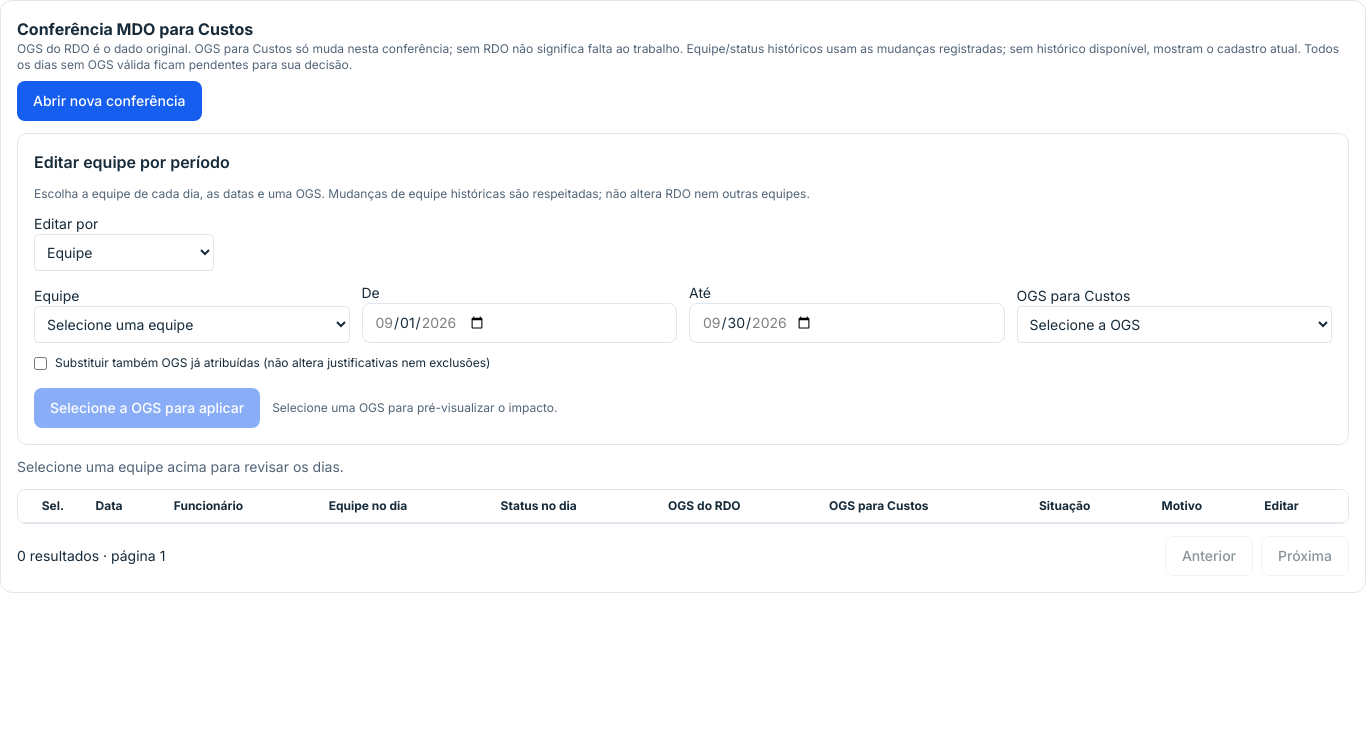
Test: conferência MDO por equipe › não inventa pendências quando a paginação de decisões corta o mesmo dia em 500 linhas
Select "CBUQ03 - GIVANILDO" in the dropdown named "Equipe para conferência MDO" at point(192, 324), box [34,306,350,343]
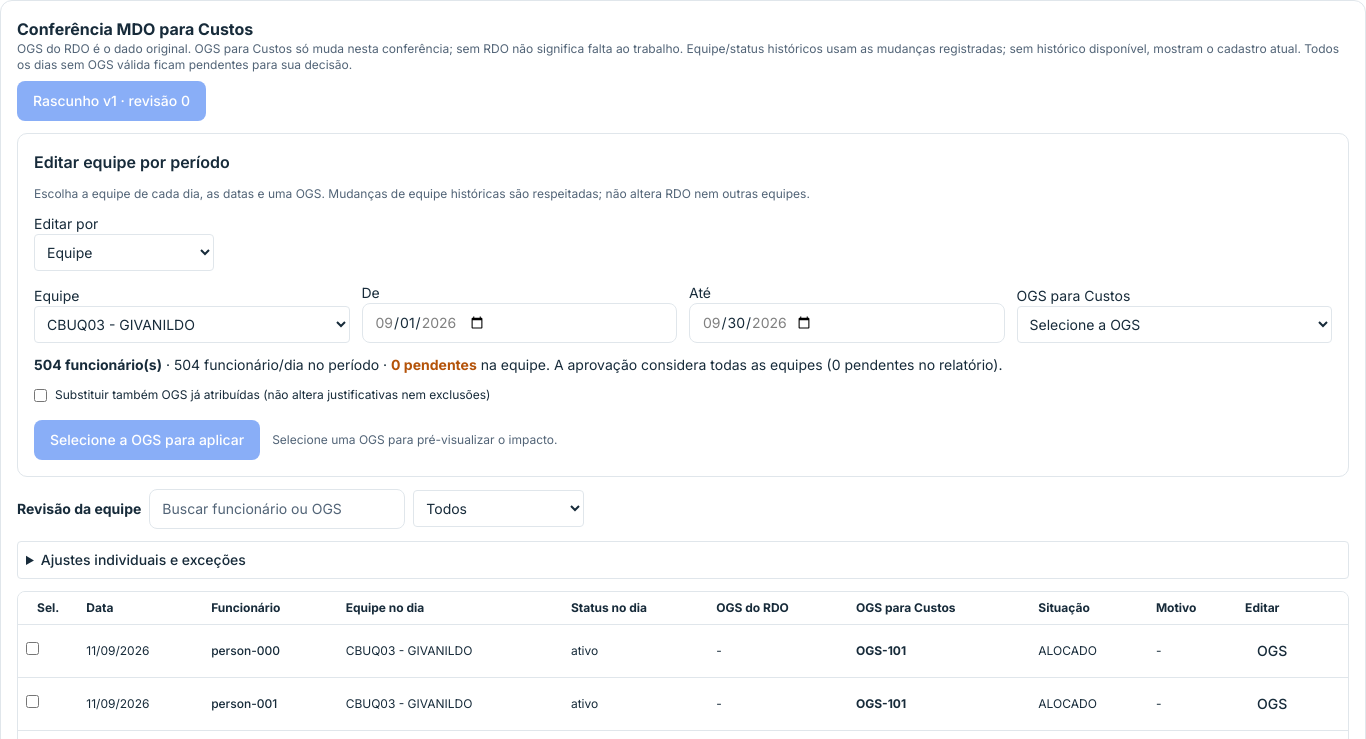
Result: the message shows "0 pendentes" at [34,356,1002,373]
